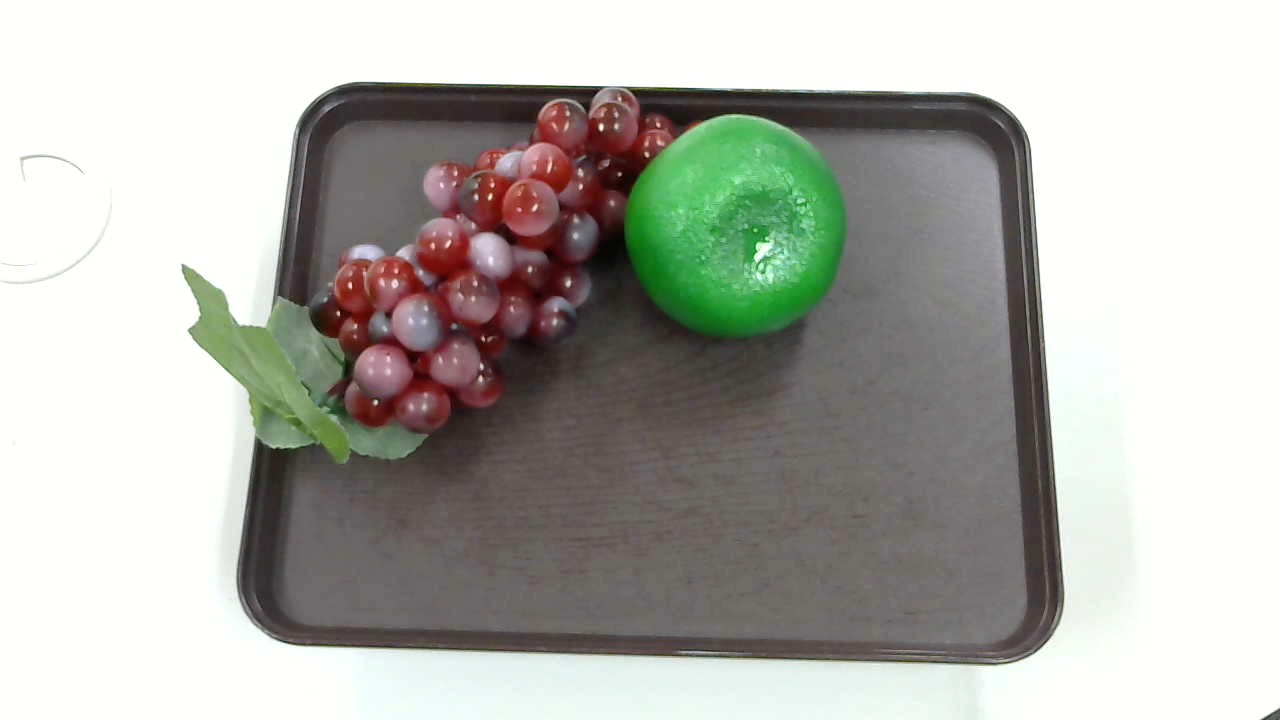grape: (178, 80, 718, 466)
green orange: (620, 112, 844, 337)
